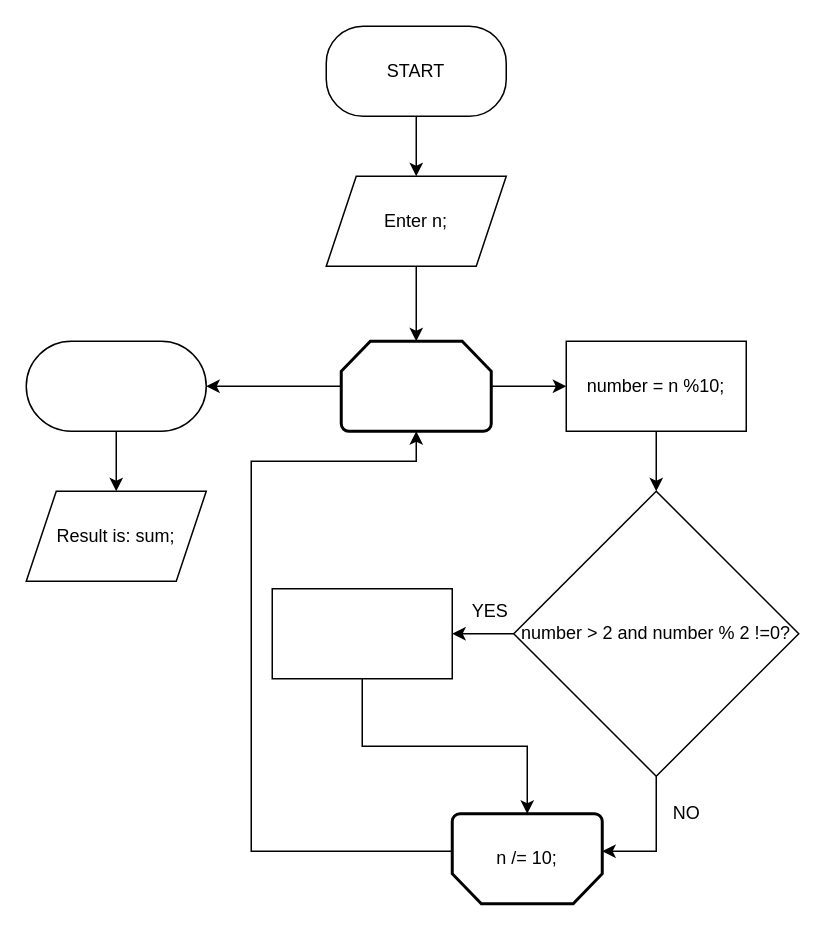
This 825x932 diagram has some shape labels left out. Each missing label, with the box of its shape:
END: (25, 340, 206, 431)
n!=0: (339, 339, 492, 432)
sum += numer;: (271, 587, 452, 679)
